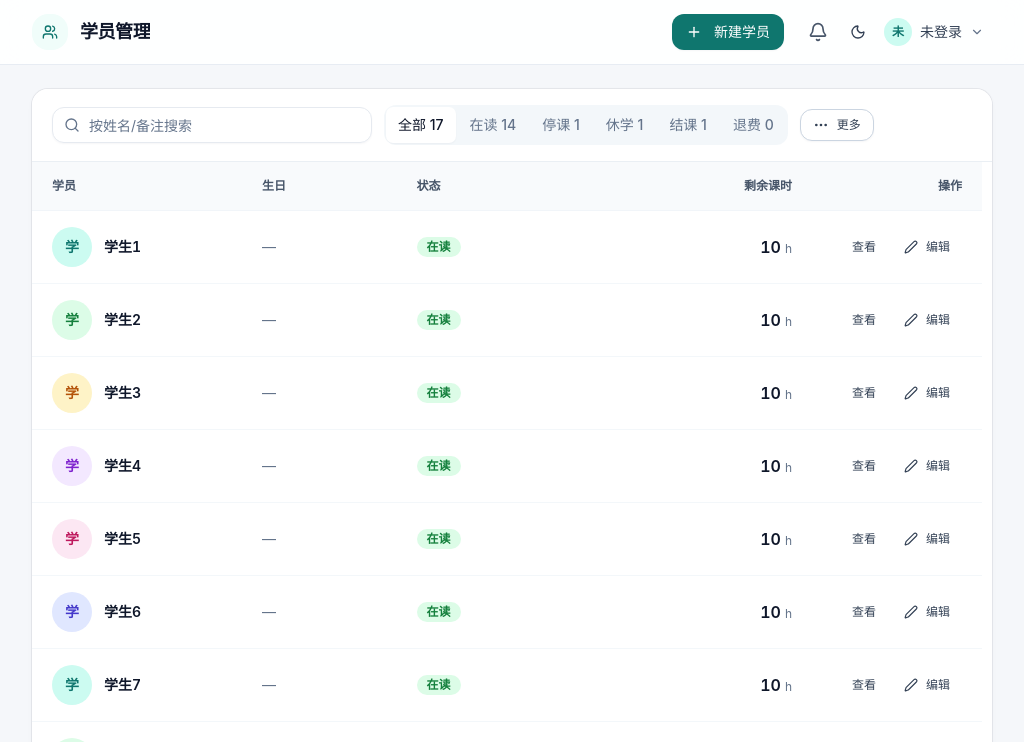
Test: 编辑弹窗不再有独立的「设为停课」按钮，停课通过状态下拉选择
Click the button with aria-label "编辑学生1": (927, 246) [892,230,962,262]
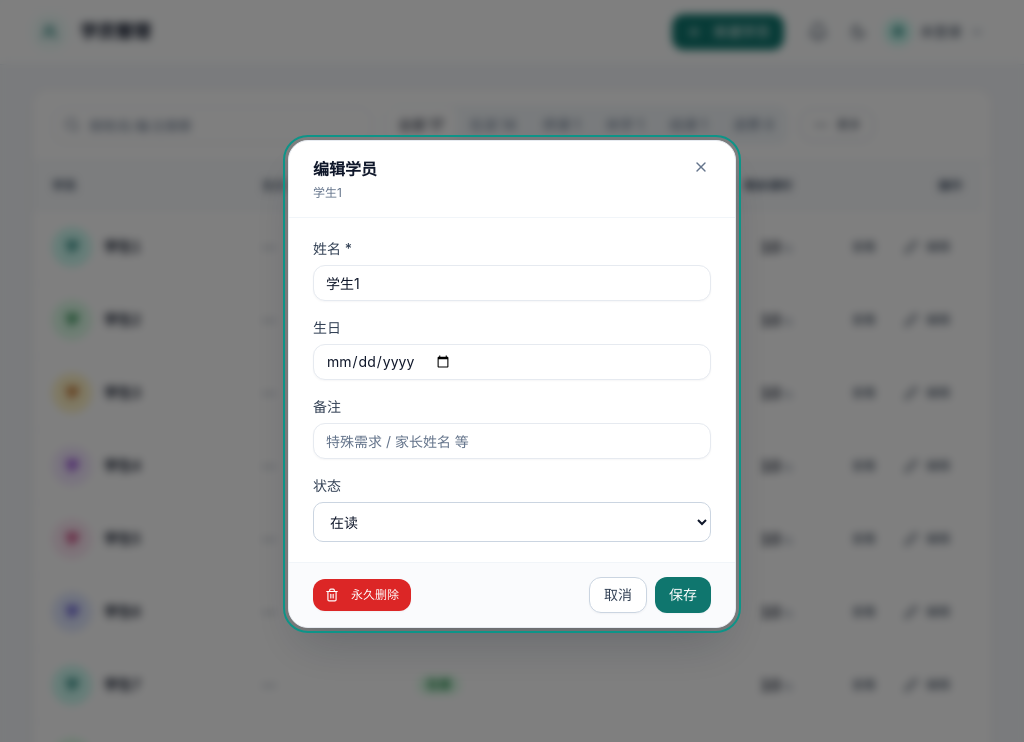
Check: the button "保存" is shown, box [655,577,711,613]
